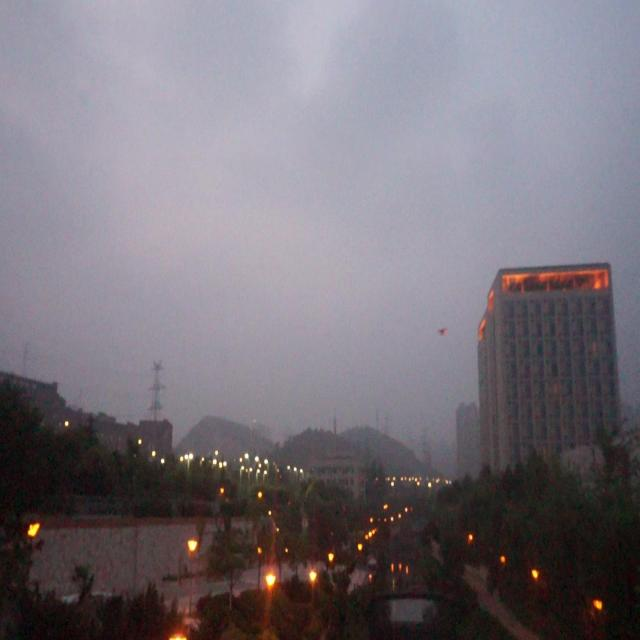drone: (438, 325, 448, 339)
